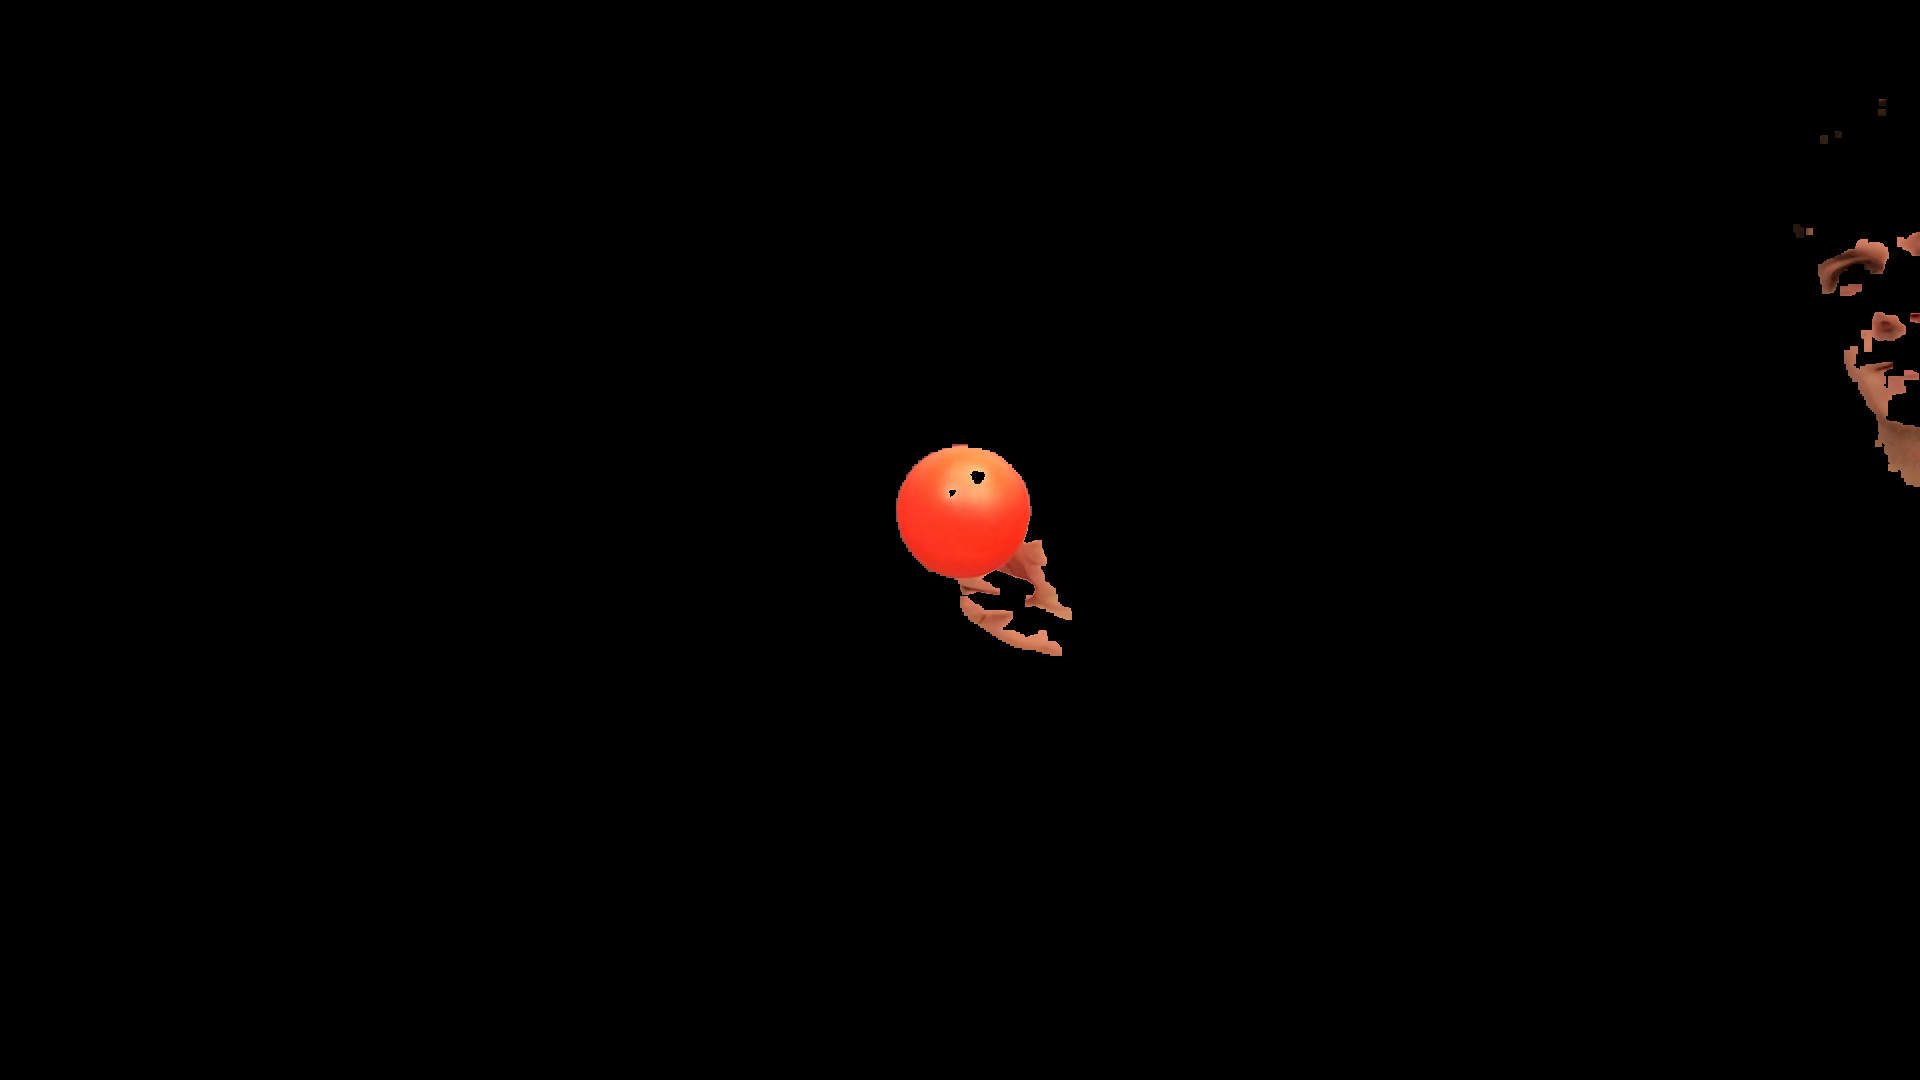Ball: (895, 446, 1034, 580)
